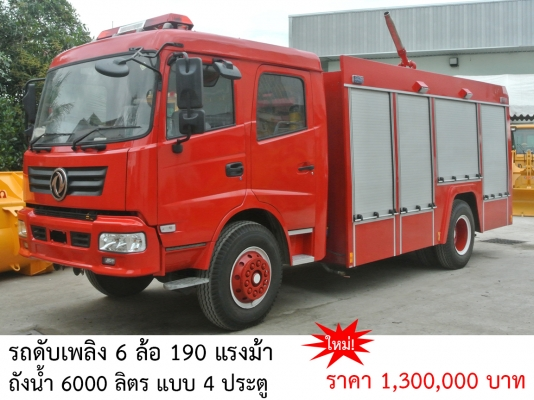truck: (16, 24, 326, 329)
